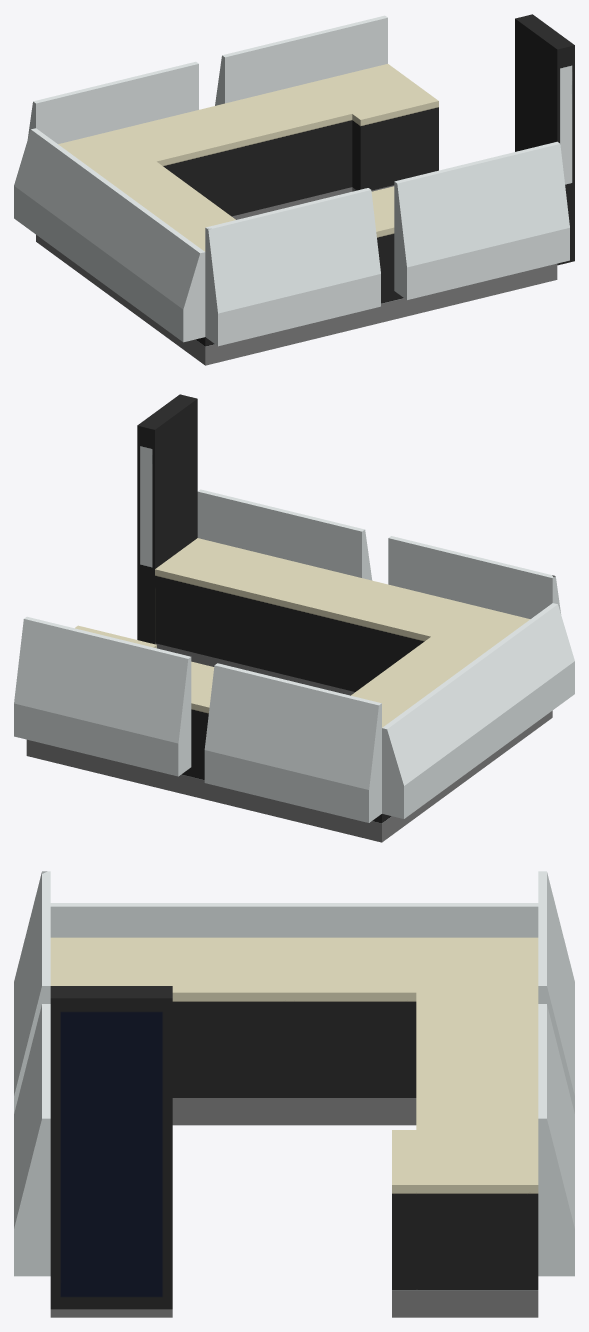
Rendered from Sunglasses_8.fbx.
3 renders of one model, top to bottom at view 1: azimuth 30°, elevation 25°; view 2: azimuth 150°, elevation 25°; view 3: azimuth 270°, elevation 25°, orthographic. The views are drawn at different scales.
Parts seen in each view (by area): view 1: Center, Display.FR, Display.BR, Display.Front, Display.BL, Screen, Display.FL; view 2: Center, Display.BL, Display.FL, Display.Front, Screen, Display.BR, Display.FR; view 3: Center, Screen, Display.Front, Display.BR, Display.BL, Display.FL, Display.FR.
Part boxes in pixels (x1,y1,x2,y2): Center: [36, 64, 557, 365]; Display.FR: [205, 188, 380, 346]; Display.BR: [394, 141, 569, 299]; Display.Front: [14, 128, 205, 342]; Display.BL: [215, 15, 387, 105]; Screen: [515, 14, 574, 265]; Display.FL: [27, 61, 198, 143]; Center: [26, 538, 552, 842]; Display.BL: [14, 616, 191, 776]; Display.FL: [204, 663, 381, 822]; Display.Front: [382, 603, 574, 818]; Screen: [137, 394, 197, 644]; Display.BR: [197, 489, 372, 580]; Display.FR: [388, 536, 561, 618]; Center: [50, 937, 538, 1317]; Screen: [50, 986, 172, 1309]; Display.Front: [50, 903, 538, 937]; Display.BR: [14, 1004, 50, 1276]; Display.BL: [538, 1004, 574, 1276]; Display.FL: [538, 871, 574, 1113]; Display.FR: [14, 871, 50, 1113].
Size of the model in its own units: 334 by 188 by 288.
